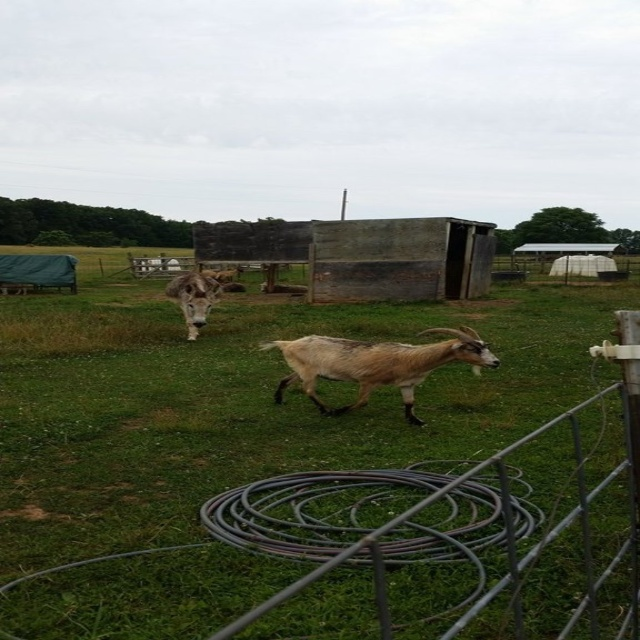Goat: (254, 333, 508, 431)
